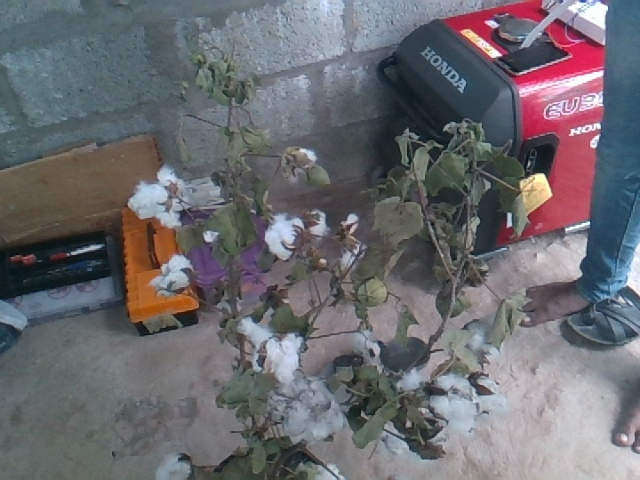cotton: (284, 382, 351, 438), (430, 378, 478, 451), (244, 332, 307, 378), (149, 252, 190, 296), (126, 180, 172, 216), (264, 214, 299, 260), (233, 313, 273, 347)
